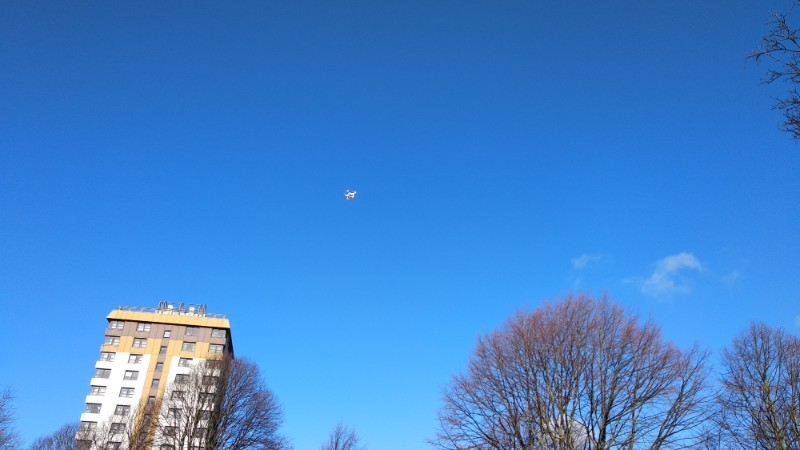drone: (342, 189, 358, 201)
